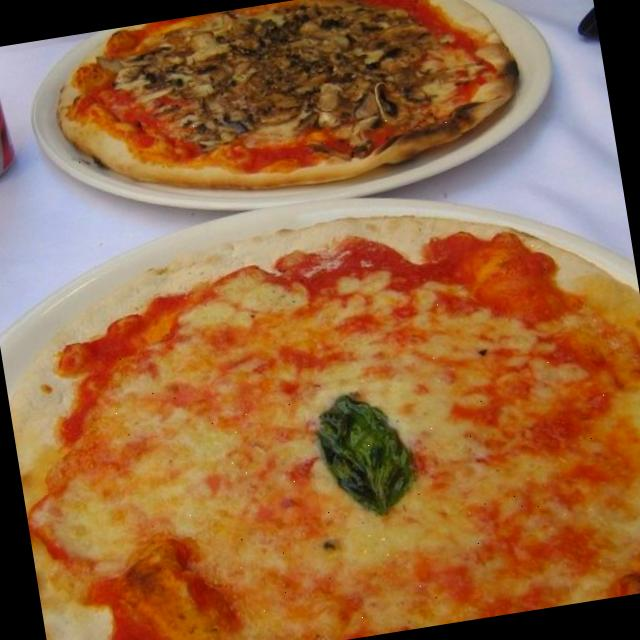basil: (303, 378, 422, 532)
cheese: (105, 276, 636, 636)
mushrooms: (129, 0, 434, 164)
pizza: (9, 218, 640, 640), (60, 0, 516, 188)
